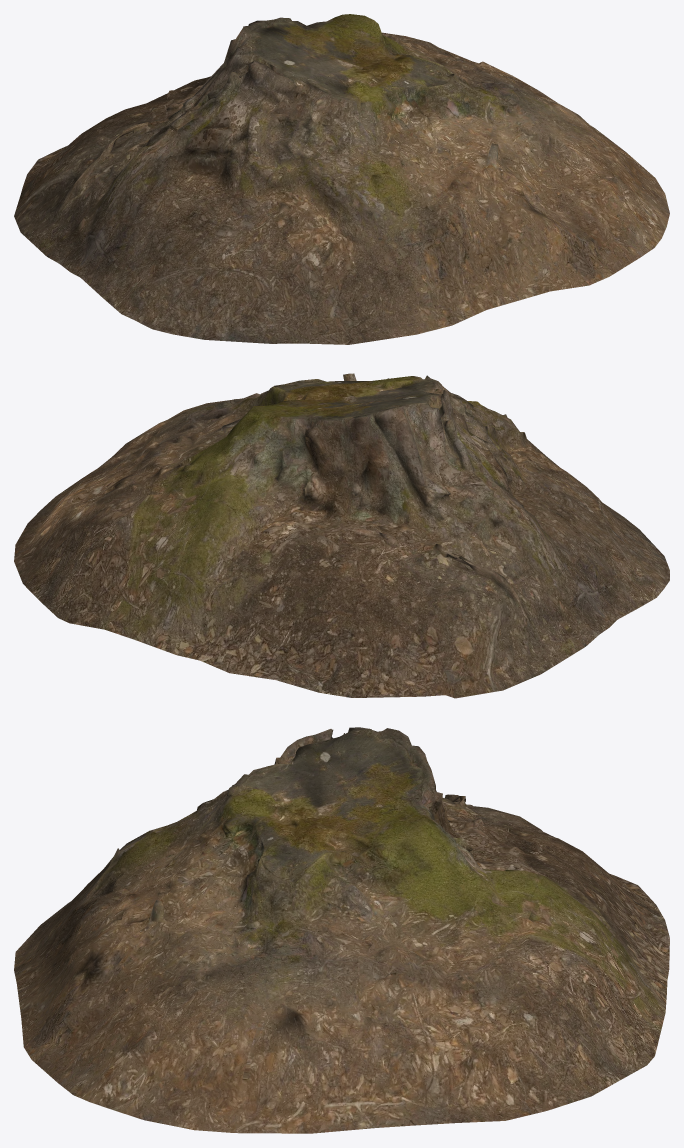
File: tree_stump_02.glb
3 views of the same model, one above another, from view 1: azimuth 30°, elevation 25°; view 2: azimuth 150°, elevation 25°; view 3: azimuth 270°, elevation 25° (orthographic). The views are drawn at different scales.
Visible parts, largest first — view 1: tree_stump_02_lod0; view 2: tree_stump_02_lod0; view 3: tree_stump_02_lod0.
Boxes of the visible parts, box(x1,y1,x2,y2) form: tree_stump_02_lod0: box(14, 14, 669, 344); tree_stump_02_lod0: box(14, 373, 669, 698); tree_stump_02_lod0: box(14, 727, 669, 1133).
Size of what is drawn, in the model's own units: 1.52 by 0.5196 by 1.39.
1 material, 1 textured.
